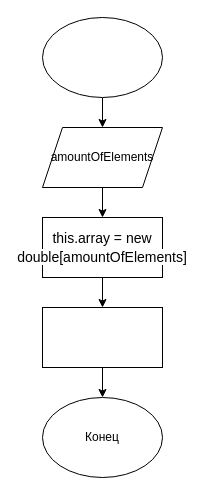
This 204x495 diagram has some shape labels left out. Each missing label, with the box of its shape:
getNumbers(scn): (42, 306, 162, 368)
Начало Array: (42, 16, 162, 98)
